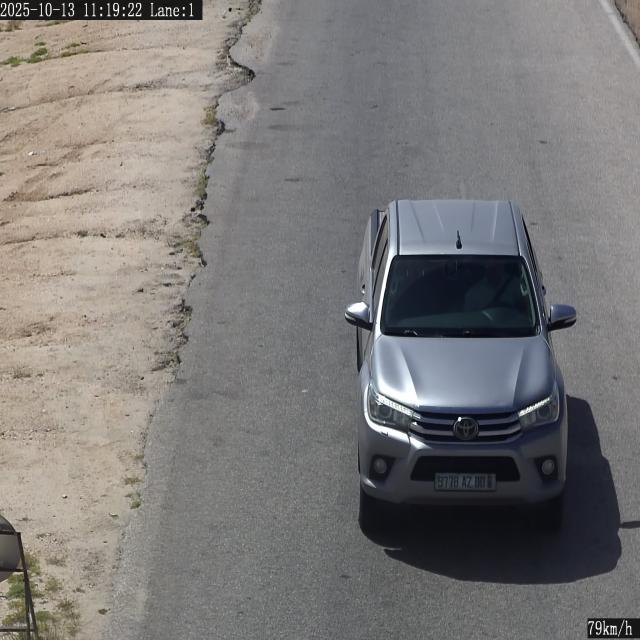BUS: (435, 474, 495, 491)
